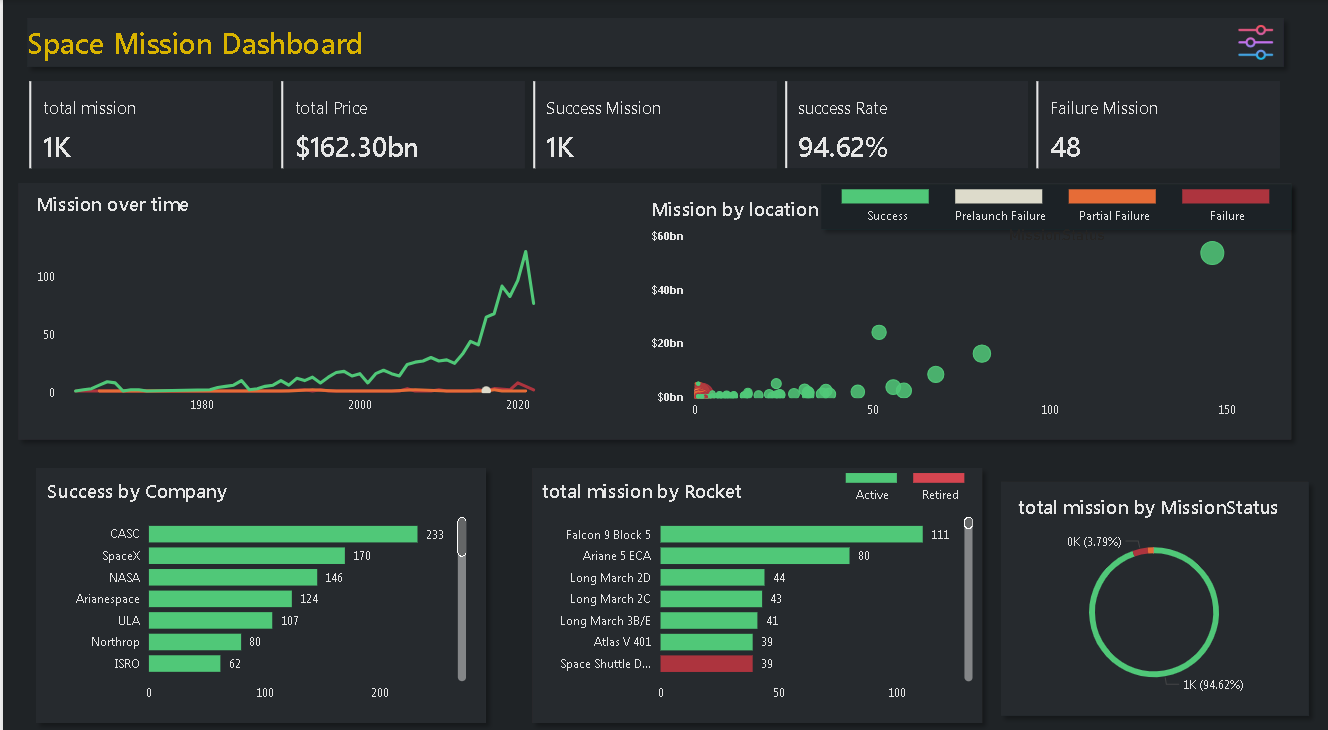

The dashboard page shown, as its layout file describes it:
{"tool":"powerbi","page":{"name":"Page 2","canvas":[1280,720],"ordinal":1},"visuals":[{"type":"shape","box":[6.1,167.9,1246.3,265.4],"z":0},{"type":"shape","box":[501.9,442.8,452.4,264.2],"z":1000},{"type":"shape","box":[954.3,456,314.9,243.7],"z":2000},{"type":"shape","box":[22.9,442.8,452.4,264.2],"z":3000},{"type":"shape","box":[14.5,8.4,1230.6,65.1],"z":4000},{"type":"lineChart","title":"Mission over time","fields":{"Category":["datetable.Date.Variation.Date Hierarchy.Year"],"Y":["all_mesaures.total mission"],"Series":["space_missions.MissionStatus"]},"box":[22.3,178.1,512,235.1],"z":5000},{"type":"scatterChart","title":"Mission by location","fields":{"X":["all_mesaures.total mission"],"Category":["space_missions.Location"],"Series":["space_missions.MissionStatus"],"Size":["all_mesaures.sSuccess"],"Y":["all_mesaures.total budget"]},"box":[615,183.7,619.1,235.1],"z":6000},{"type":"clusteredBarChart","fields":{"Category":["space_missions.Company"],"Y":["all_mesaures.sSuccess"]},"box":[32.6,456,424.7,235.3],"z":7000},{"type":"clusteredBarChart","fields":{"Category":["space_missions.Rocket"],"Y":["all_mesaures.total mission"]},"box":[510.3,456,435.5,235.3],"z":8000},{"type":"donutChart","fields":{"Category":["space_missions.MissionStatus"],"Y":["all_mesaures.total mission"]},"box":[970,471.7,282.3,213.5],"z":9000},{"type":"shape","box":[780.5,168.3,471.7,61.2],"z":10000},{"type":"clusteredColumnChart","fields":{"Y":["all_mesaures.legend"],"Category":["space_missions.MissionStatus"]},"box":[755.5,168.3,524.5,76.5],"z":11000},{"type":"clusteredColumnChart","fields":{"Y":["all_mesaures.legend"],"Category":["space_missions.RocketStatus"]},"box":[744.3,442.4,254.6,58.4],"z":12000},{"type":"cardVisual","fields":{"Data":["all_mesaures.total mission","all_mesaures.total budget","all_mesaures.sSuccess","all_mesaures.success%","all_mesaures.Failure Mission"]},"box":[20.5,73.6,1218.5,94.1],"z":13000},{"type":"image","title":"filter image","box":[1178.7,19.3,60.3,43.4],"z":15000}]}

Visuals, with their boxes in screenshot pixels (x1, y1, x2, y2), scaled from the page's 1280x720 canvas onto the 1328x730 screenshot:
shape: rect(6, 170, 1299, 439)
shape: rect(521, 449, 990, 717)
shape: rect(990, 462, 1317, 709)
shape: rect(24, 449, 493, 717)
shape: rect(15, 9, 1292, 75)
"Mission over time" lineChart: rect(23, 181, 554, 419)
"Mission by location" scatterChart: rect(638, 186, 1280, 425)
clusteredBarChart - space_missions.Company x all_mesaures.sSuccess: rect(34, 462, 474, 701)
clusteredBarChart - space_missions.Rocket x all_mesaures.total mission: rect(529, 462, 981, 701)
donutChart - space_missions.MissionStatus x all_mesaures.total mission: rect(1006, 478, 1299, 695)
shape: rect(810, 171, 1299, 233)
clusteredColumnChart - all_mesaures.legend x space_missions.MissionStatus: rect(784, 171, 1327, 248)
clusteredColumnChart - all_mesaures.legend x space_missions.RocketStatus: rect(772, 449, 1036, 508)
cardVisual - all_mesaures.total mission x all_mesaures.total budget: rect(21, 75, 1285, 170)
"filter image" image: rect(1223, 20, 1285, 64)
